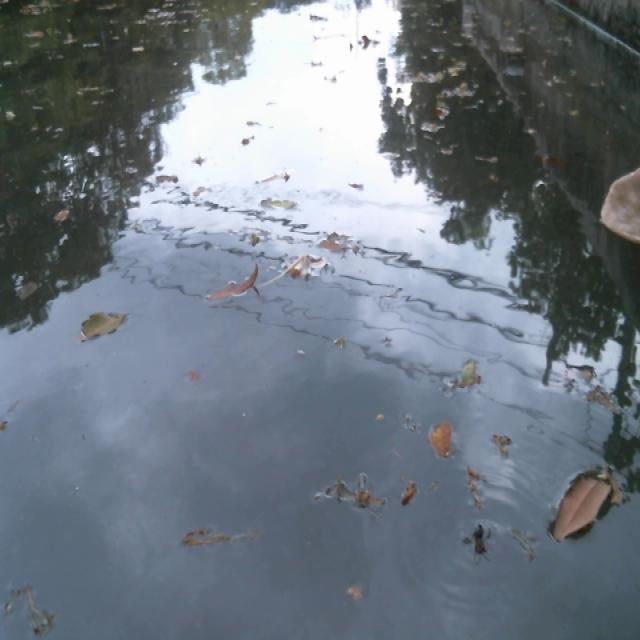Big-leaf: (595, 147, 640, 252)
Small-leaf: (316, 469, 424, 527), (552, 469, 614, 556), (74, 286, 138, 359), (270, 243, 353, 293), (184, 512, 260, 561), (205, 266, 273, 304), (430, 417, 456, 455), (42, 208, 72, 232)
